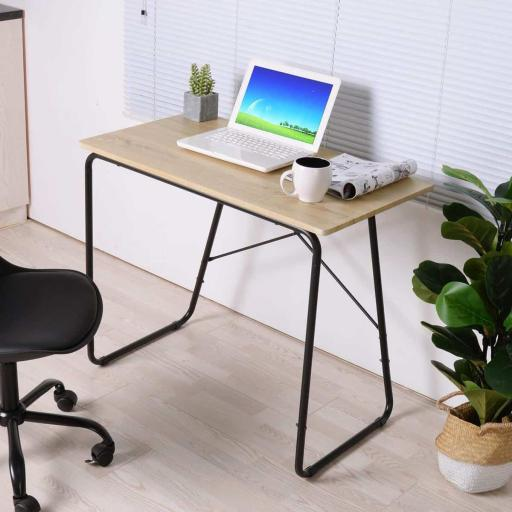chair: (0, 255, 115, 512)
desk: (78, 112, 434, 478)
wall: (2, 0, 489, 405)
